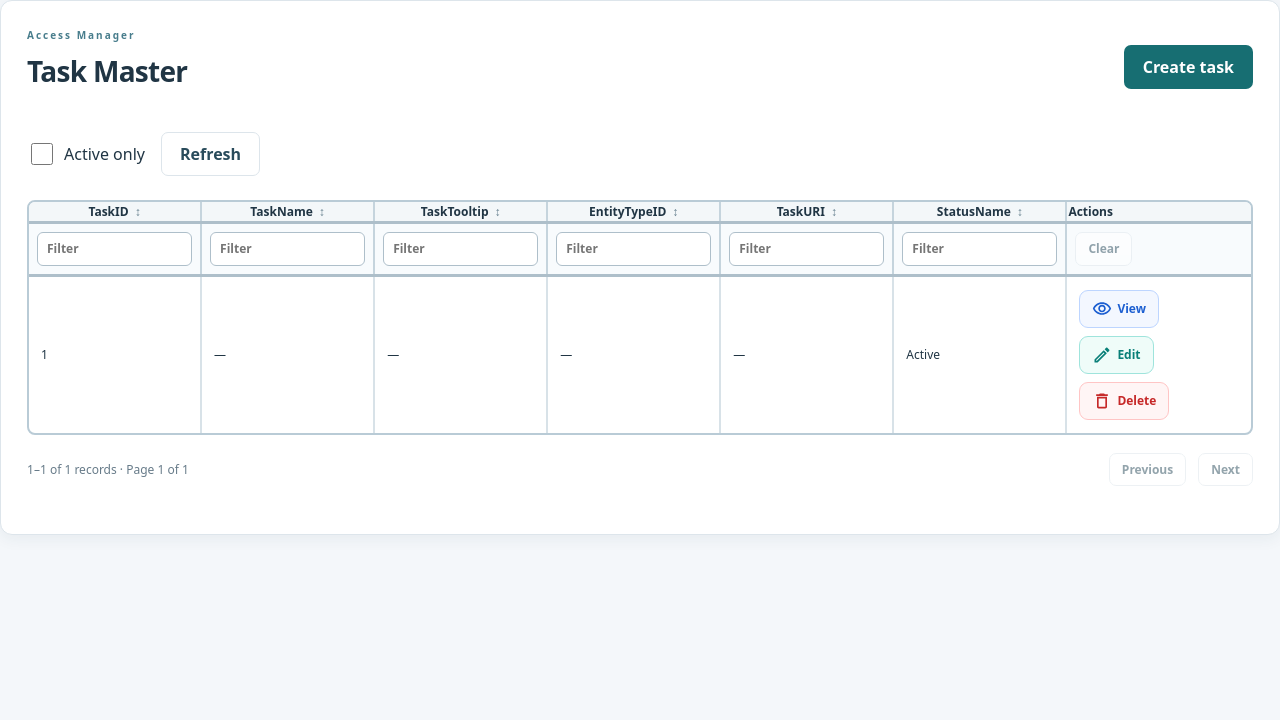
opens row details and dismisses the task popup
The image size is (1280, 720).
Click the button with aria-label "View task": coordinates (1119, 308) [1079,290,1159,328]
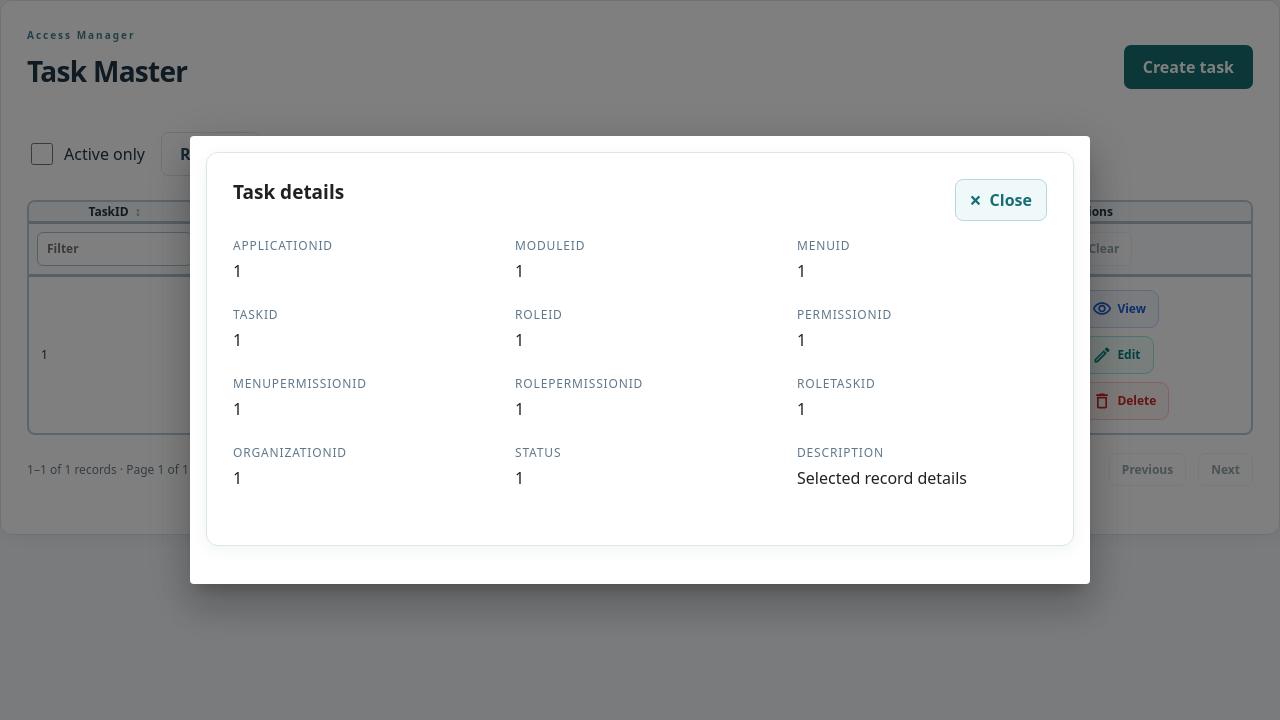
Now the text "Selected record details" is shown, box [797,467,967,489]
Click the button "Close": coordinates (1001, 200) [955,179,1047,221]
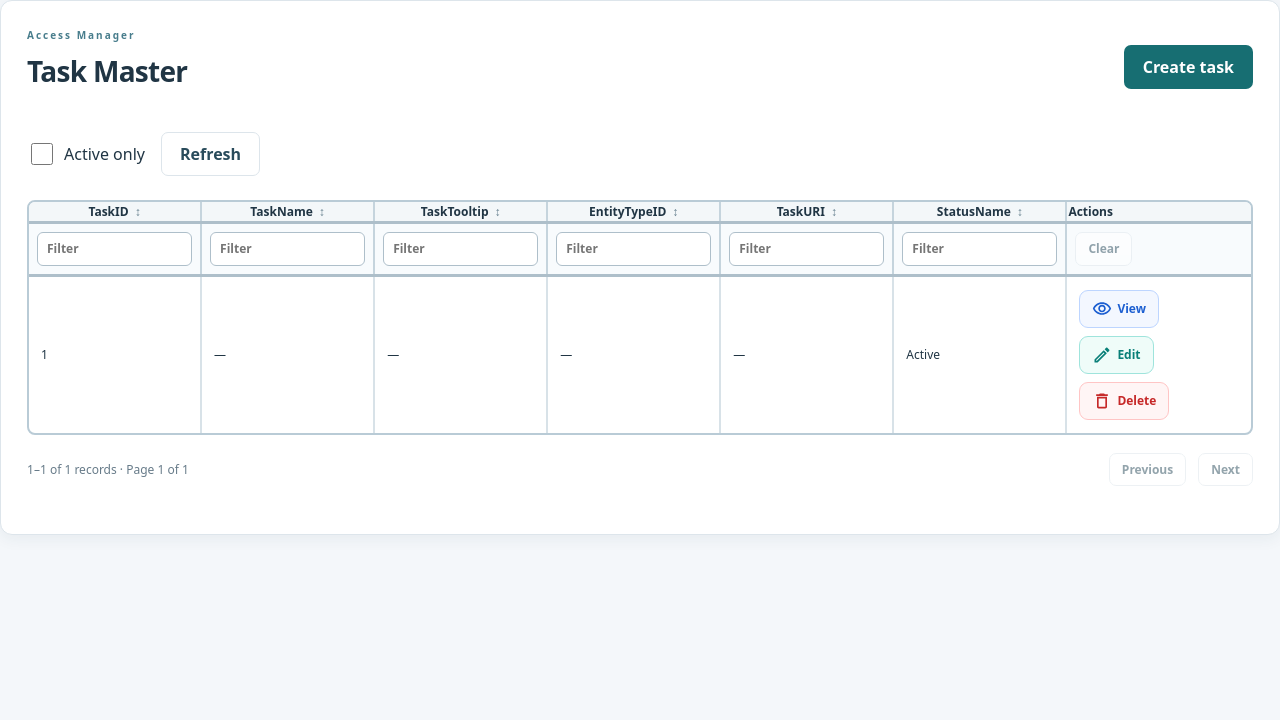
Now the dialog is gone
Click the button with aria-label "View task": coordinates (1119, 308) [1079,290,1159,328]
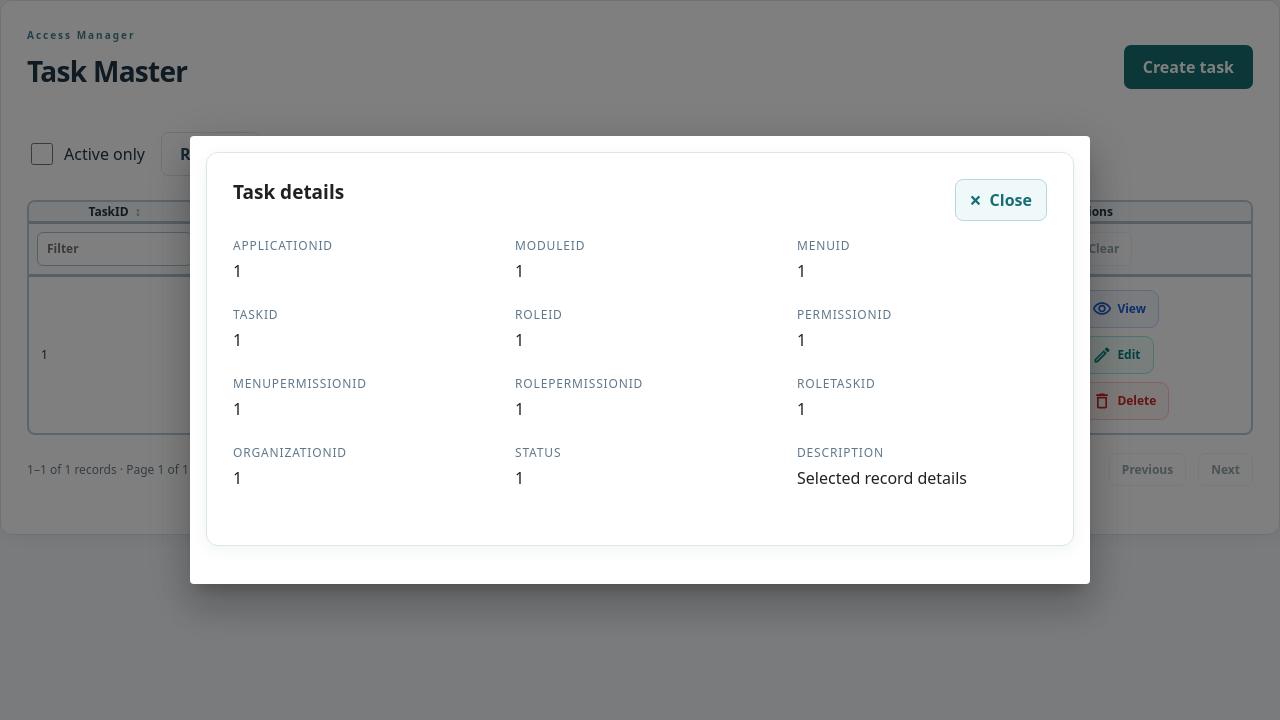
Press Escape in the dialog, box [190,136,1090,584]
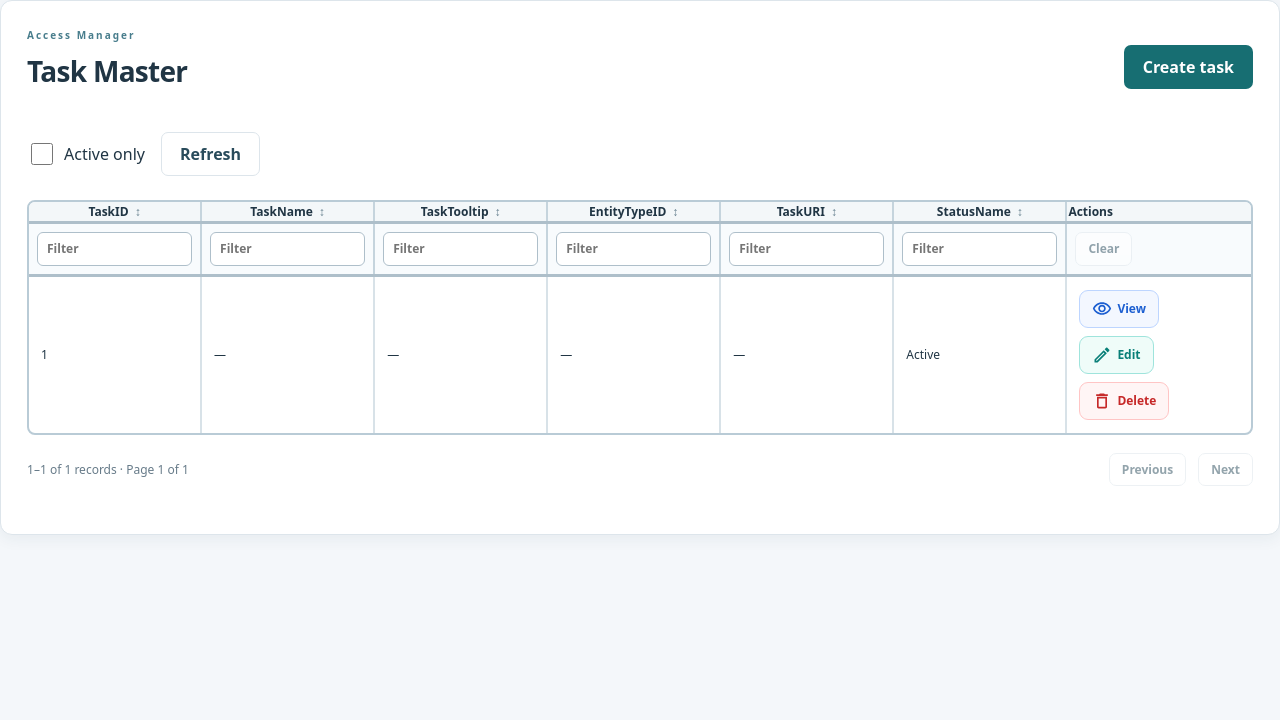
Now the dialog is gone
